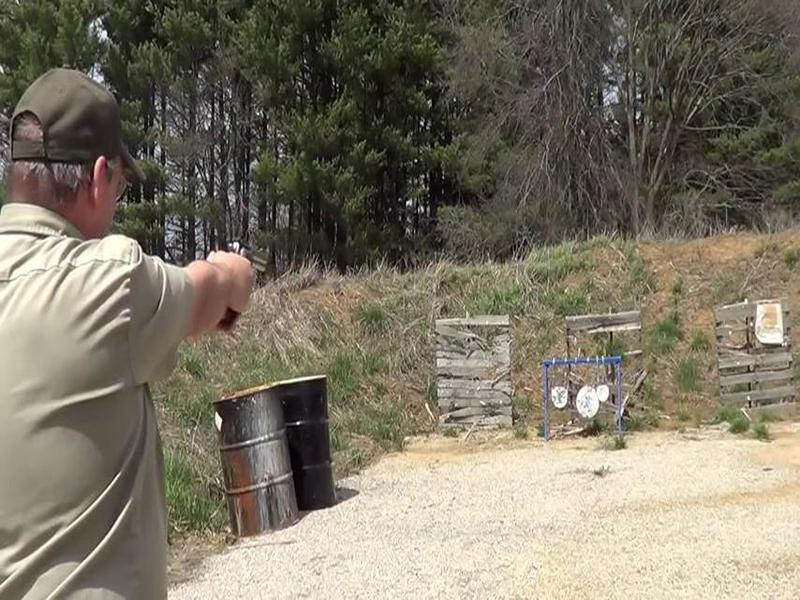Revolver: (211, 220, 283, 305)
